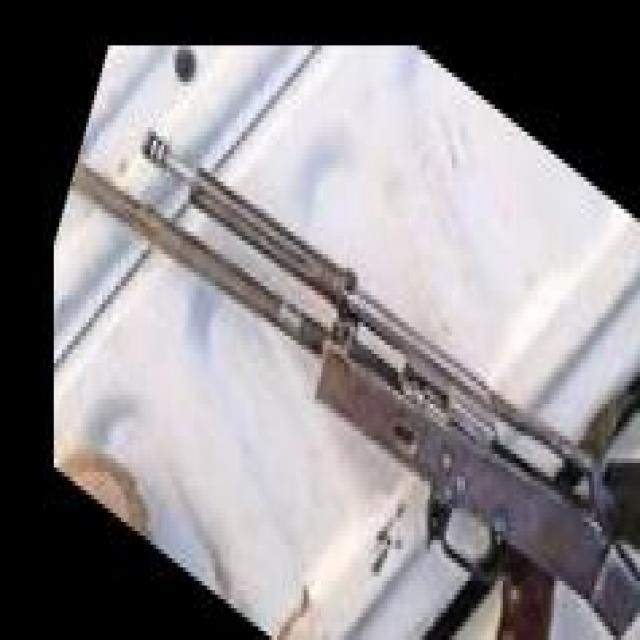weapon: (67, 124, 640, 640)
